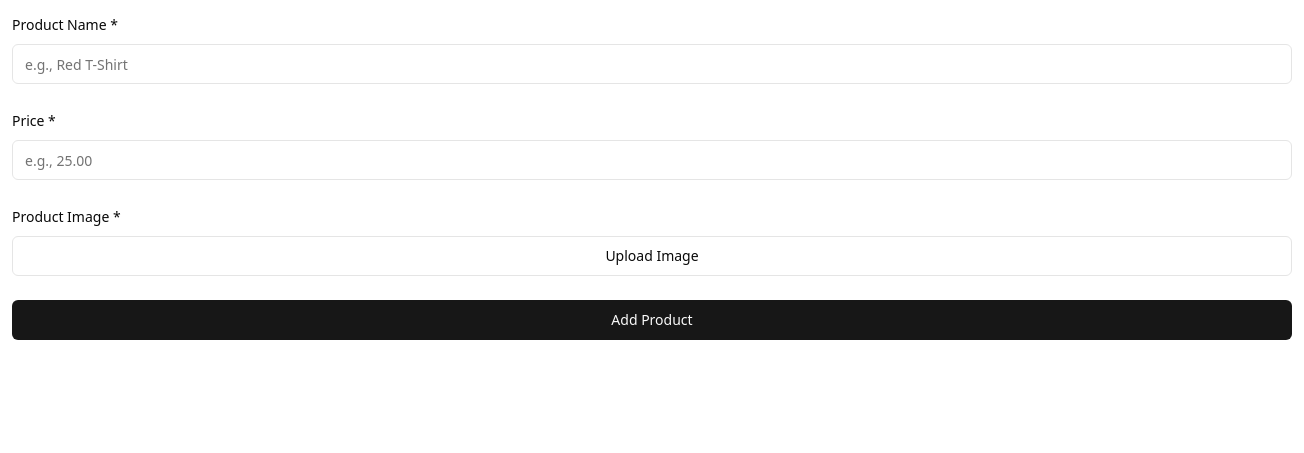
Test: ProductForm › should show validation errors for empty fields
Click the button "Add Product".
click(652, 320)  # box [12,300,1292,340]
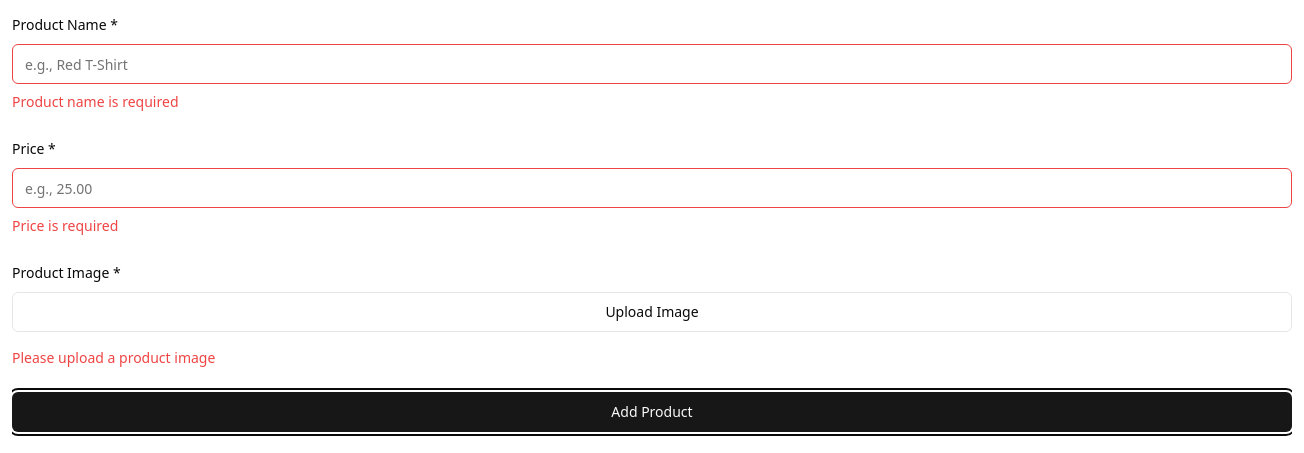
Expected: the text "Product name is required" is shown, [12,92,178,111]
Expected: the text "Price is required" is shown, [12,216,118,235]
Expected: the text "Please upload a product image" is shown, [12,348,215,367]
